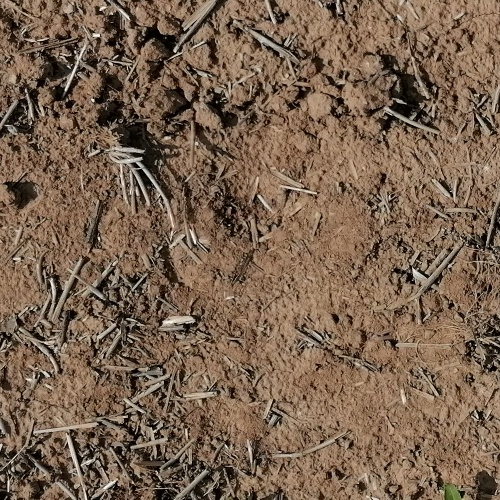beet: (442, 484, 463, 500)
